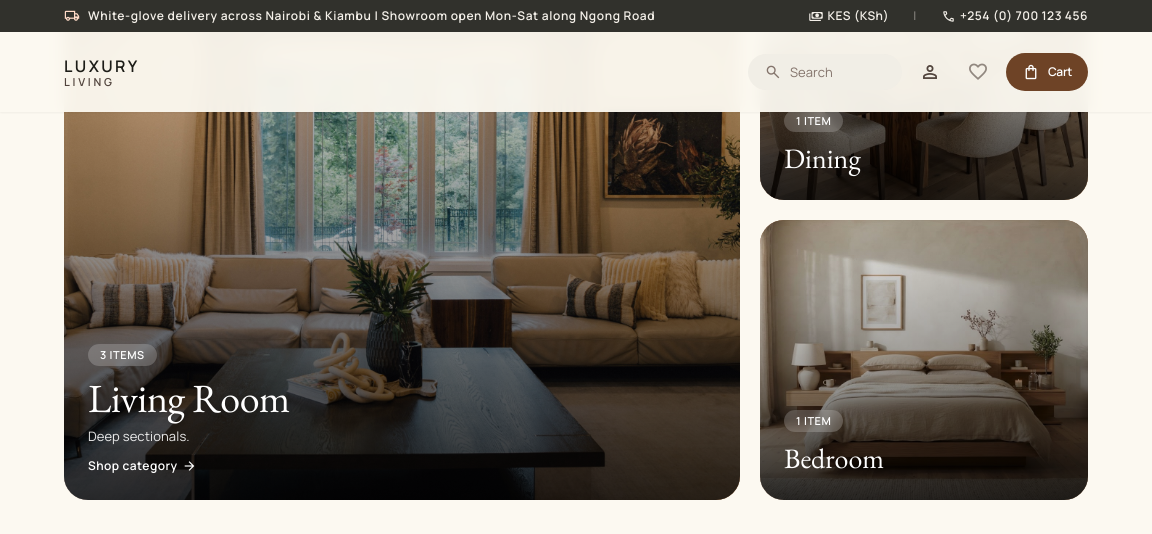
Scenario: moving between pages › opens the shop on a room when its tile is clicked
(page scrolled)
Click the link "1 Item Bedroom" at (924, 360), box [760,220,1088,500]
(page scrolled)
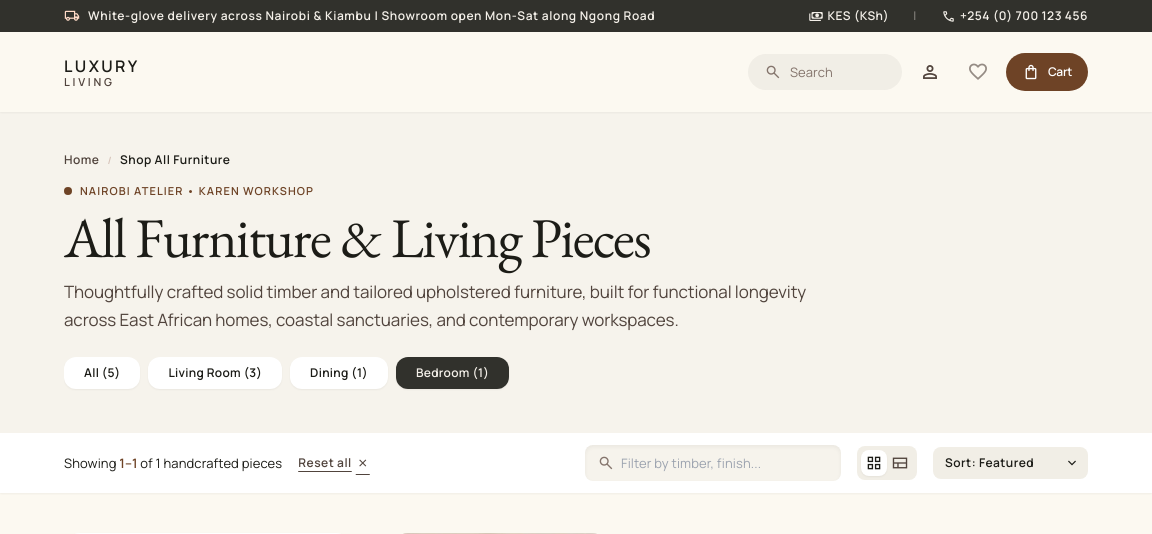
Expected: the heading "All Furniture & Living Pieces" is shown, [64,201,650,274]
